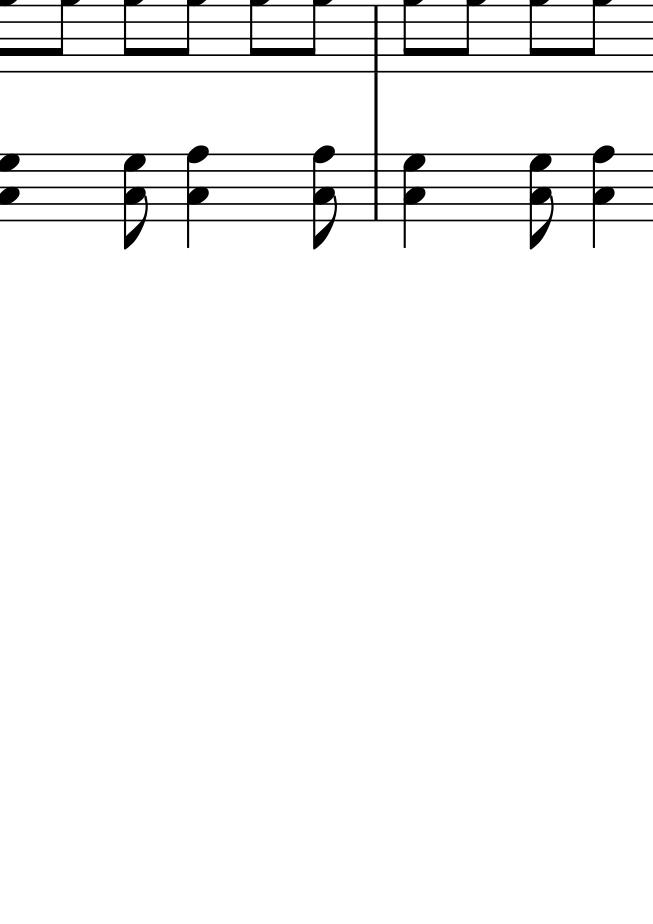4_3_7: (403, 152, 427, 250)
4_3_8: (186, 144, 209, 249), (592, 144, 615, 249)
8_3_7: (123, 153, 148, 252), (529, 152, 554, 251)
8_3_8: (312, 143, 338, 253)
Single_barline: (367, 4, 386, 71), (367, 154, 385, 218)
